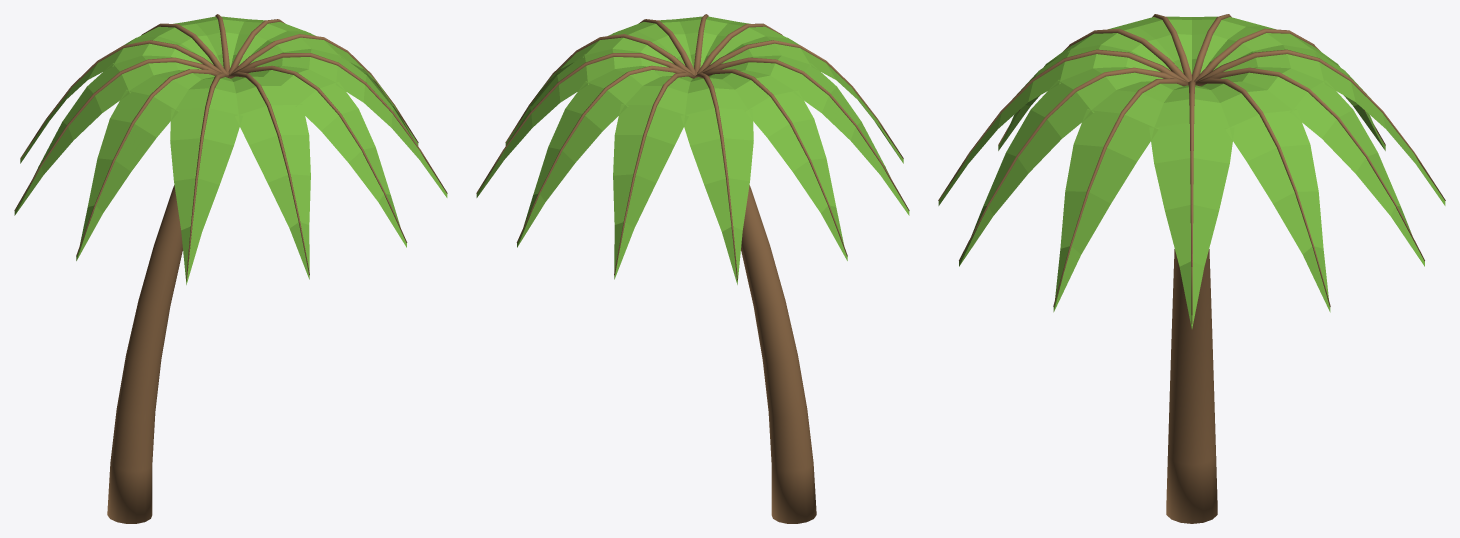
File: CoastalPalm_1.fbx
The picture shows the model from 3 angles, left to right: view 1: azimuth 30°, elevation 25°; view 2: azimuth 150°, elevation 25°; view 3: azimuth 270°, elevation 25°; orthographic projection. The views are drawn at different scales.
Visible parts, largest first — view 1: Palm_Leaf, Palm_Wood; view 2: Palm_Leaf, Palm_Wood; view 3: Palm_Leaf, Palm_Wood.
Boxes of the visible parts, x1=… form: Palm_Leaf: x1=14, y1=16, x2=447, y2=284; Palm_Wood: x1=14, y1=14, x2=447, y2=523; Palm_Leaf: x1=476, y1=16, x2=909, y2=284; Palm_Wood: x1=476, y1=14, x2=909, y2=523; Palm_Leaf: x1=938, y1=16, x2=1445, y2=328; Palm_Wood: x1=938, y1=14, x2=1445, y2=523.
Bounding box in the file's own units: 608 × 685 × 615.
